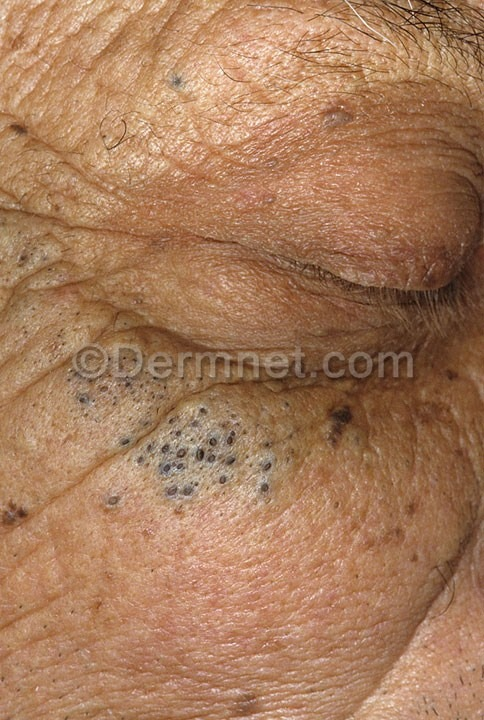Melasma: (0, 46, 484, 277), (0, 381, 484, 582)
